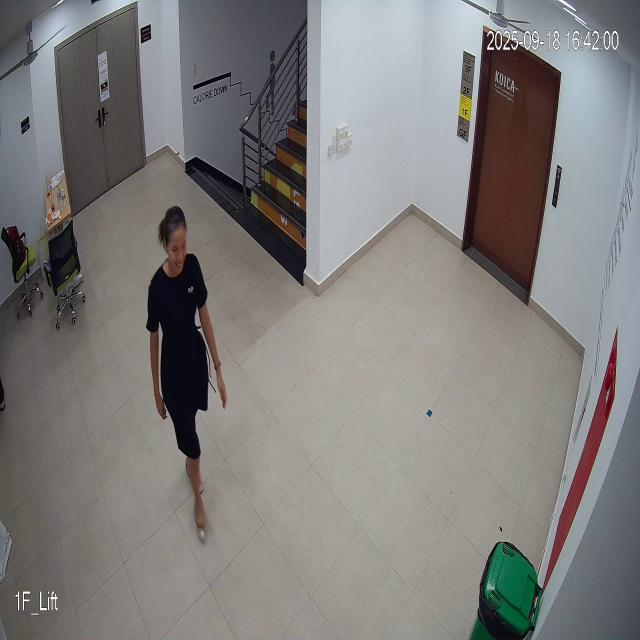face: (157, 206, 191, 276)
